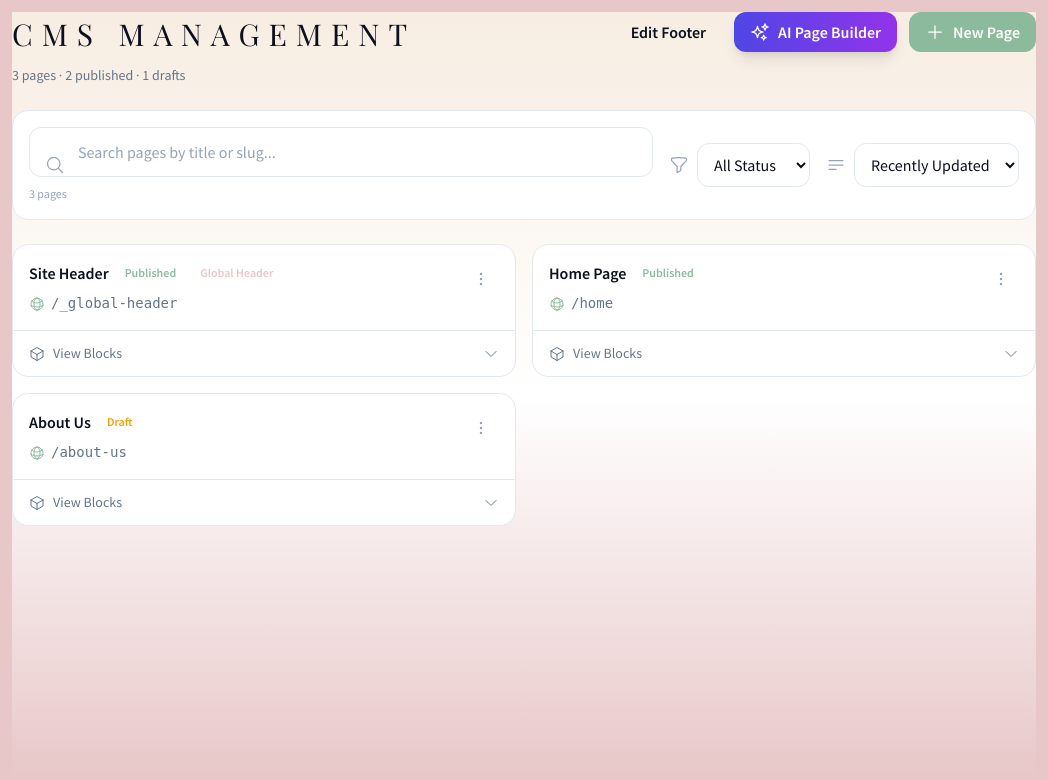
AdminCMS › Search and Filtering › filters pages by status - drafts
The image size is (1048, 780).
Expected: the heading "Home Page" is shown, [549, 261, 626, 285]
Select "Drafts" in the dropdown titled "Filter by status" at x=754, y=165, box [697, 143, 810, 187]
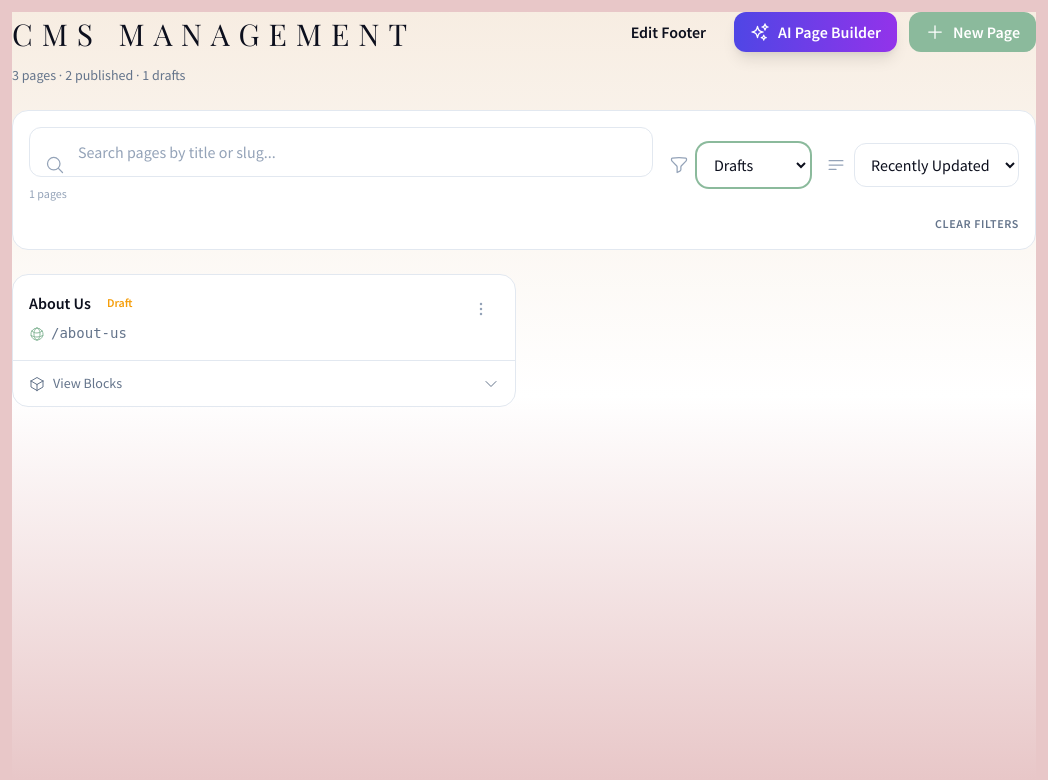
Expected: the heading "About Us" is shown, [29, 291, 91, 315]
Now the heading "Home Page" is gone
Now the heading "Site Header" is gone
